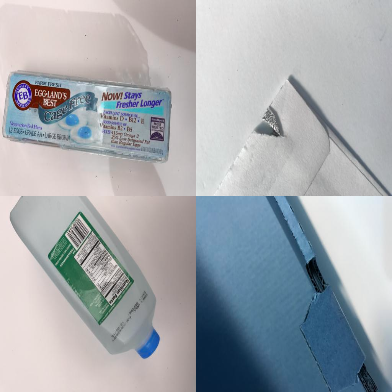cardboard: (196, 195, 379, 391)
paper: (209, 78, 390, 194)
plastic: (9, 195, 161, 360), (3, 69, 173, 164)
